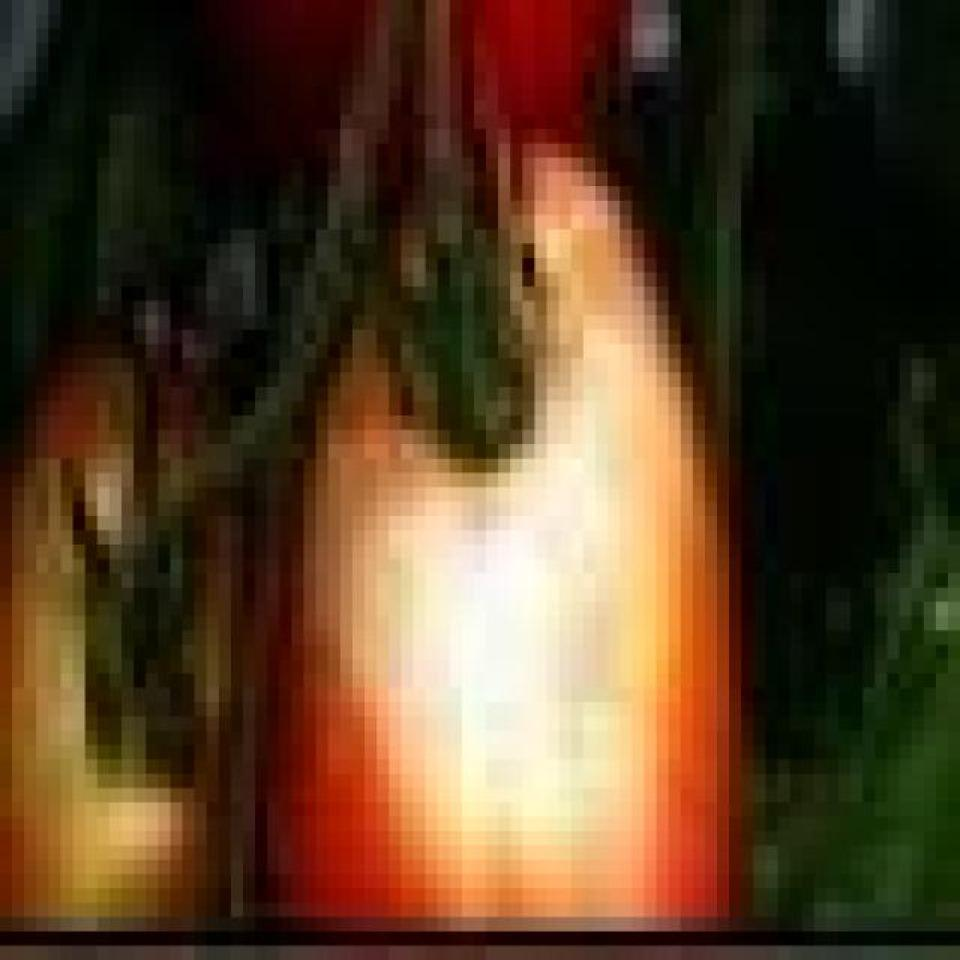Sunscald: (286, 200, 674, 946), (0, 452, 219, 924)
